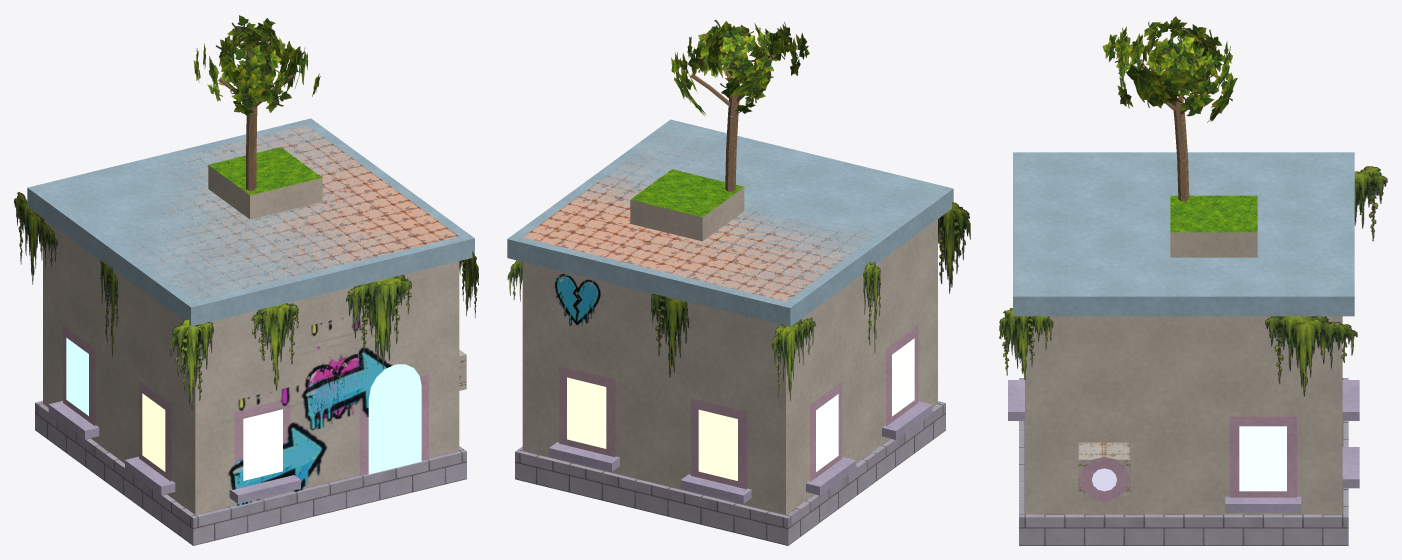
File: BUILDING_01.glb
3 renders of one model, left to right at view 1: azimuth 30°, elevation 25°; view 2: azimuth 150°, elevation 25°; view 3: azimuth 270°, elevation 25°, orthographic. The views are drawn at different scales.
Visible parts, largest first — view 1: B_AS_01_Skin, B_AS_01_Moss, BUILDING_01_Trees; view 2: B_AS_01_Skin, BUILDING_01_Trees, B_AS_01_Moss; view 3: B_AS_01_Skin, BUILDING_01_Trees, B_AS_01_Moss.
Boxes of the visible parts, x1=… form: B_AS_01_Skin: x1=27, y1=118, x2=474, y2=545; B_AS_01_Moss: x1=14, y1=192, x2=478, y2=410; BUILDING_01_Trees: x1=193, y1=15, x2=320, y2=190; B_AS_01_Skin: x1=507, y1=119, x2=953, y2=545; BUILDING_01_Trees: x1=671, y1=20, x2=809, y2=191; B_AS_01_Moss: x1=507, y1=202, x2=970, y2=400; B_AS_01_Skin: x1=1008, y1=152, x2=1359, y2=545; BUILDING_01_Trees: x1=1102, y1=16, x2=1237, y2=201; B_AS_01_Moss: x1=999, y1=166, x2=1387, y2=396.
Size of the model in its own units: 10.01 by 12.57 by 9.78.
13 materials, 9 textured.
